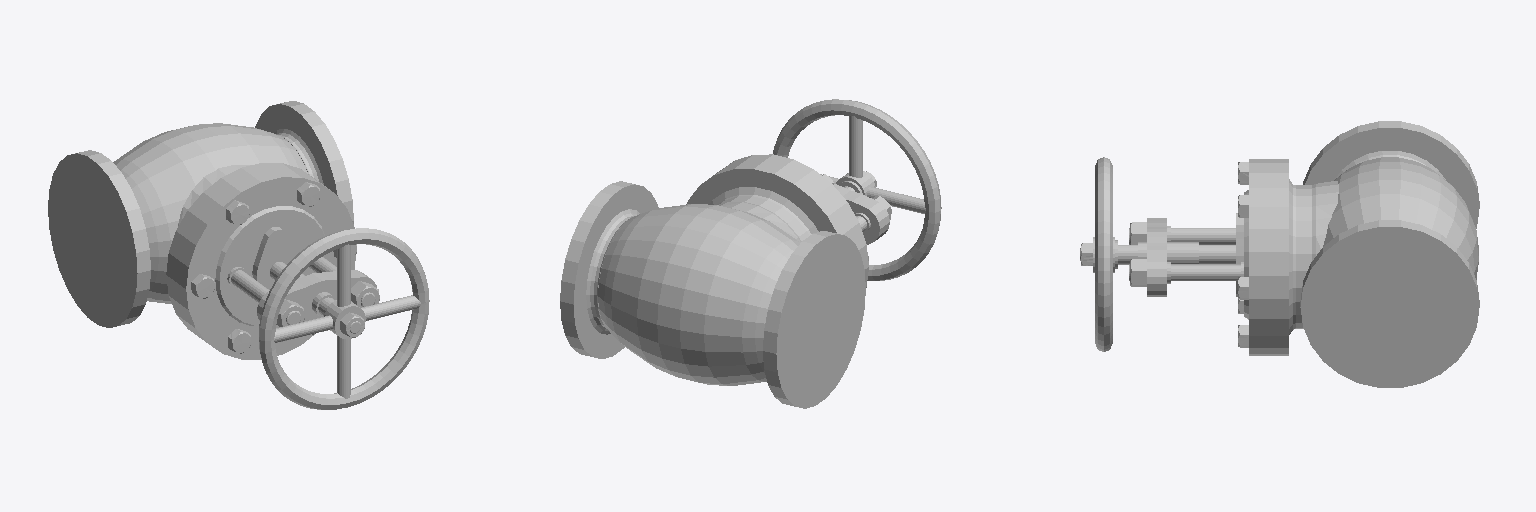
File: valve.obj
The picture shows the model from 3 angles: view 1: azimuth 30°, elevation 25°; view 2: azimuth 150°, elevation 25°; view 3: azimuth 270°, elevation 25°; orthographic projection.
Visible parts, largest first — view 1: VirtualRootNode_Cylinder, VirtualRootNode_Cylinder.006, VirtualRootNode_Cylinder.002, VirtualRootNode_BezierCircle, VirtualRootNode_Cylinder.007, VirtualRootNode_Cube.001, VirtualRootNode_Bolt.008, VirtualRootNode_Cylinder.001, VirtualRootNode_Cylinder.011, VirtualRootNode_Cube, VirtualRootNode_Bolt.006, VirtualRootNode_Bolt.007 (+2 smaller); view 2: VirtualRootNode_Cylinder.002, VirtualRootNode_Cylinder, VirtualRootNode_Cylinder.006, VirtualRootNode_BezierCircle, VirtualRootNode_Cylinder.005, VirtualRootNode_Cylinder.003, VirtualRootNode_Cube.001, VirtualRootNode_Cylinder.001, VirtualRootNode_Cylinder.011, VirtualRootNode_Bolt.008; view 3: VirtualRootNode_Cylinder, VirtualRootNode_Cylinder.002, VirtualRootNode_Cylinder.006, VirtualRootNode_Cylinder.005, VirtualRootNode_BezierCircle, VirtualRootNode_Bolt.008, VirtualRootNode_Bolt.007, VirtualRootNode_Cube.001, VirtualRootNode_Bolt.006, VirtualRootNode_Cylinder.003.
Part boxes in pixels (x1,y1,x2,y2): VirtualRootNode_Cylinder: (48, 101, 353, 327); VirtualRootNode_Cylinder.006: (166, 163, 356, 359); VirtualRootNode_Cylinder.002: (113, 123, 307, 303); VirtualRootNode_BezierCircle: (259, 228, 429, 409); VirtualRootNode_Cylinder.007: (215, 206, 327, 325); VirtualRootNode_Cube.001: (257, 270, 376, 327); VirtualRootNode_Bolt.008: (270, 262, 365, 339); VirtualRootNode_Cylinder.001: (337, 244, 350, 398); VirtualRootNode_Cylinder.011: (274, 295, 420, 342); VirtualRootNode_Cube: (252, 227, 296, 289); VirtualRootNode_Bolt.006: (227, 267, 304, 326); VirtualRootNode_Bolt.007: (307, 257, 379, 307); VirtualRootNode_Cylinder.002: (598, 204, 799, 385); VirtualRootNode_Cylinder: (560, 181, 865, 408); VirtualRootNode_Cylinder.006: (686, 154, 868, 287); VirtualRootNode_BezierCircle: (773, 99, 941, 280); VirtualRootNode_Cylinder.005: (709, 187, 818, 242); VirtualRootNode_Cylinder.003: (586, 209, 639, 334); VirtualRootNode_Cube.001: (834, 184, 889, 244); VirtualRootNode_Cylinder.001: (849, 116, 862, 177); VirtualRootNode_Cylinder.011: (820, 174, 925, 213); VirtualRootNode_Bolt.008: (836, 171, 876, 195); VirtualRootNode_Cylinder: (1300, 121, 1479, 387); VirtualRootNode_Cylinder.002: (1323, 157, 1478, 279); VirtualRootNode_Cylinder.006: (1249, 159, 1288, 355); VirtualRootNode_Cylinder.005: (1289, 179, 1338, 334); VirtualRootNode_BezierCircle: (1095, 157, 1112, 351); VirtualRootNode_Bolt.008: (1080, 237, 1235, 272); VirtualRootNode_Bolt.007: (1129, 259, 1243, 286); VirtualRootNode_Cube.001: (1147, 218, 1166, 296); VirtualRootNode_Bolt.006: (1129, 222, 1235, 244); VirtualRootNode_Cylinder.003: (1335, 151, 1445, 179).
Bounding box in the file's own units: 0.1001 × 0.0794 × 0.1598.